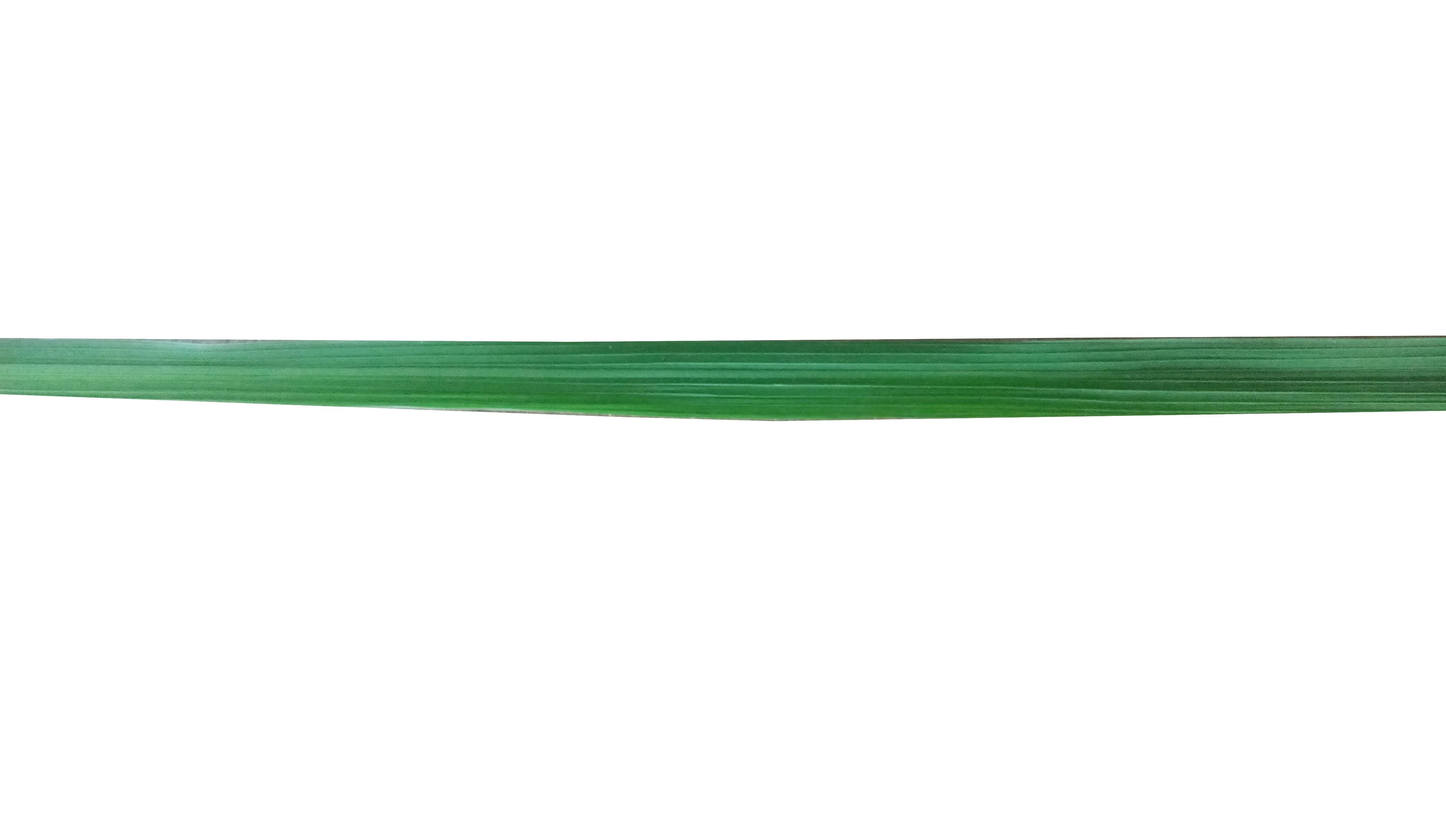Healthy: (0, 339, 1446, 425)
